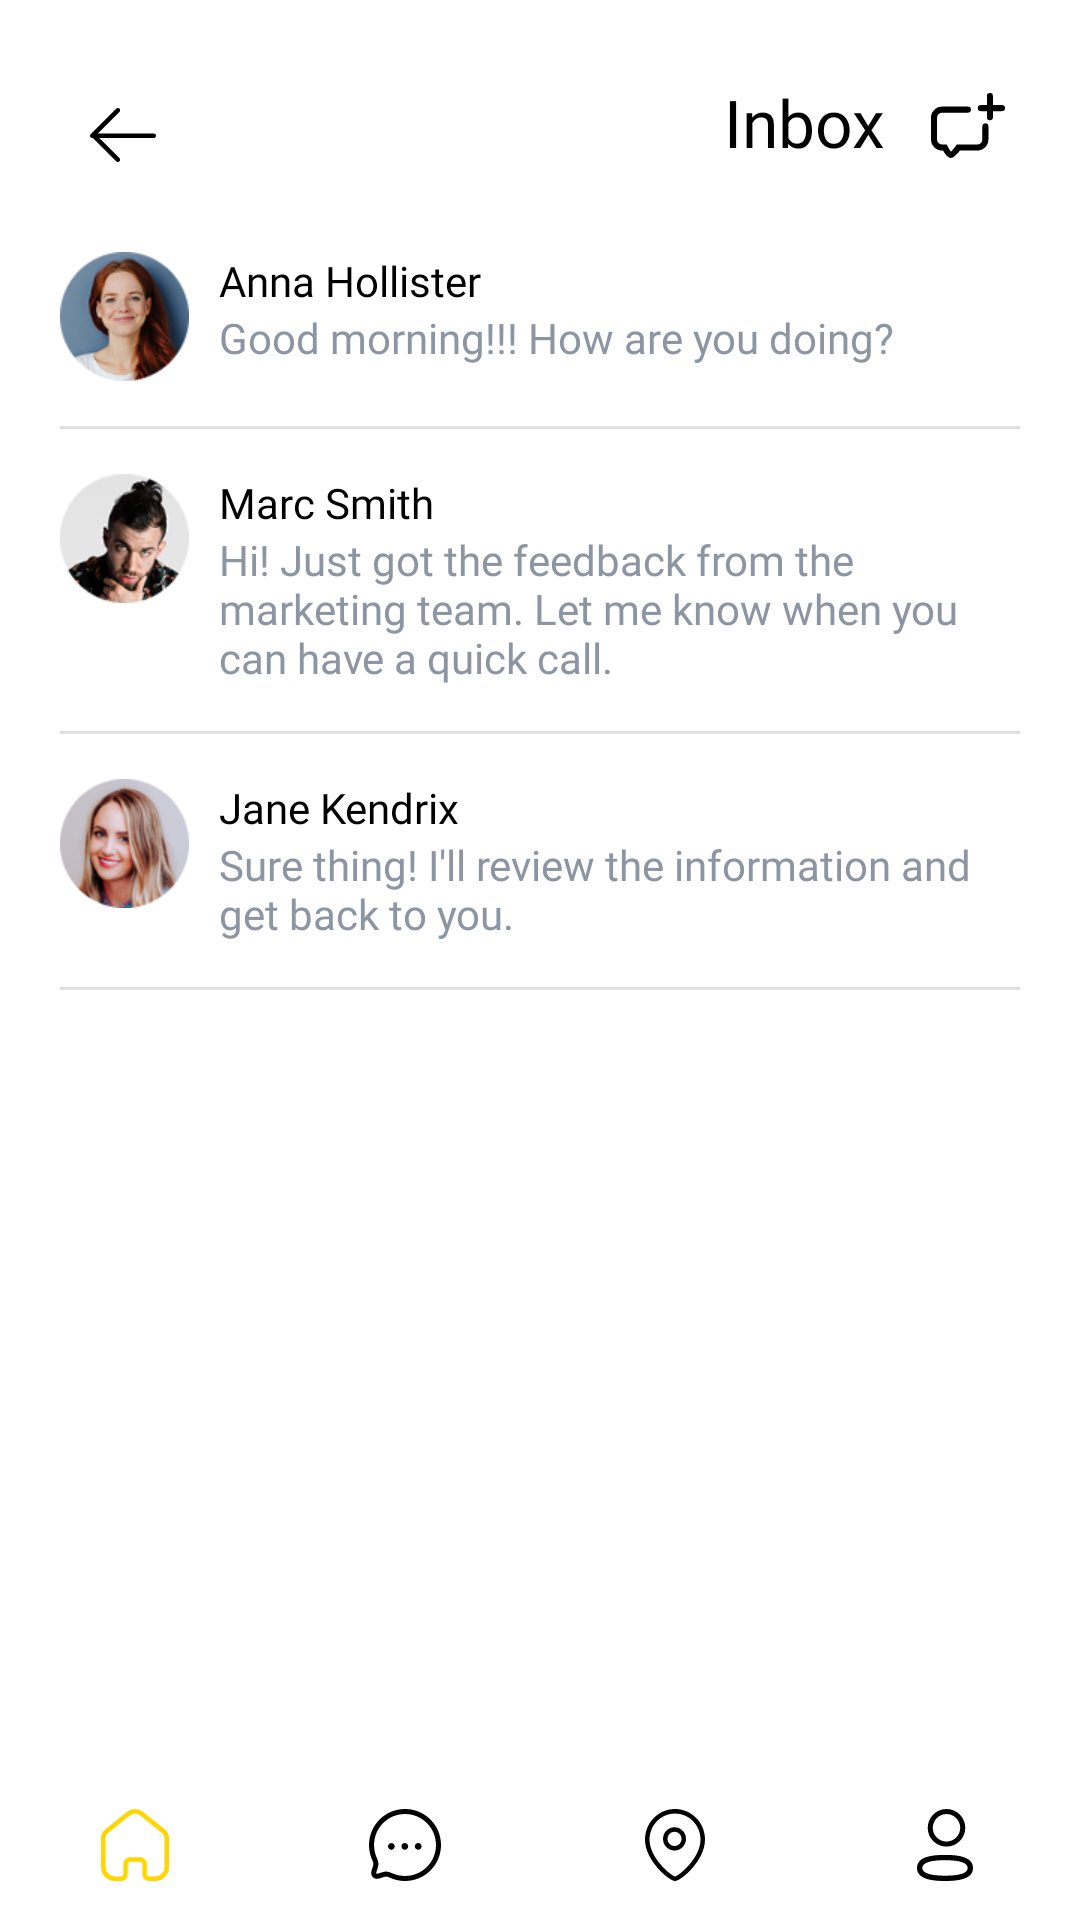

Named icons in this screenshot (1080 x 1920) and their centers, (x,y):
create message: (968,125)
